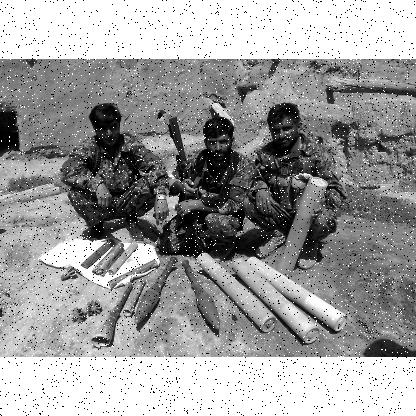gun: (166, 116, 209, 258)
